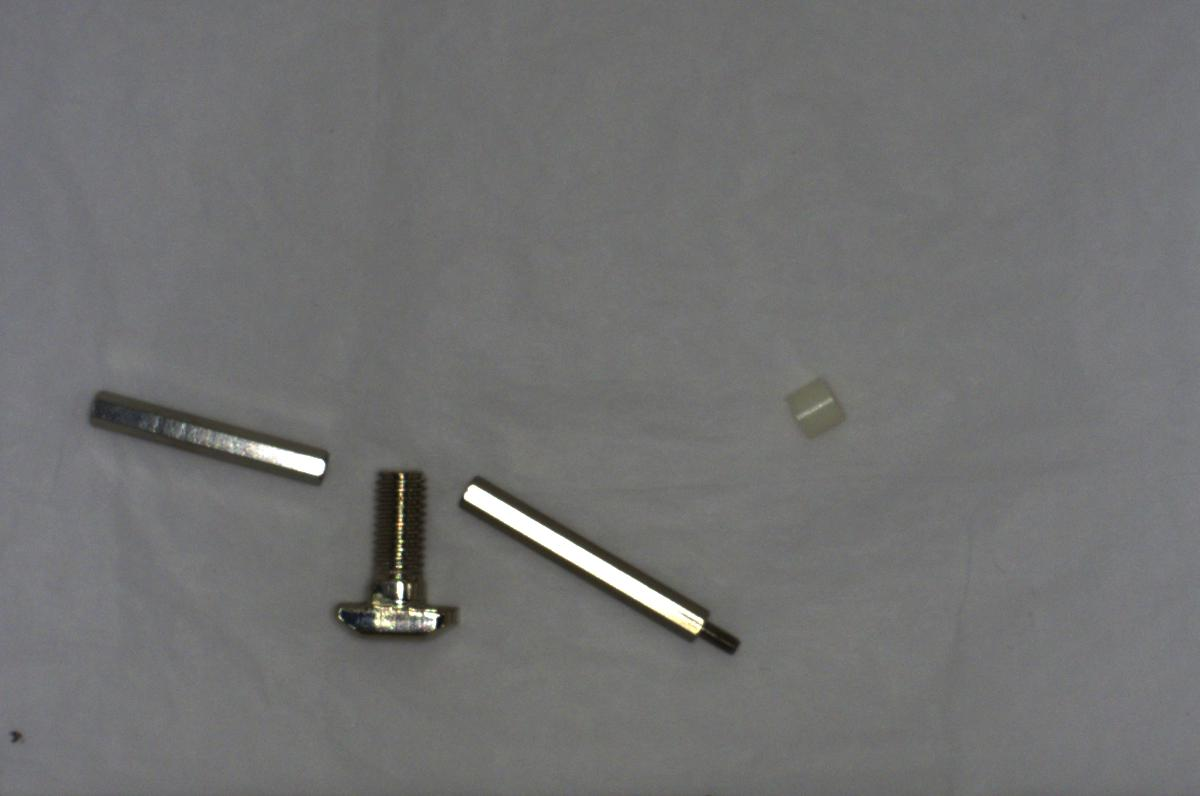Double hexagonal column: (85, 386, 331, 490)
Hexagonal steel column: (452, 472, 753, 662)
Plastic cushion pillar: (778, 370, 848, 443)
T-shaped screw: (330, 459, 467, 654)
